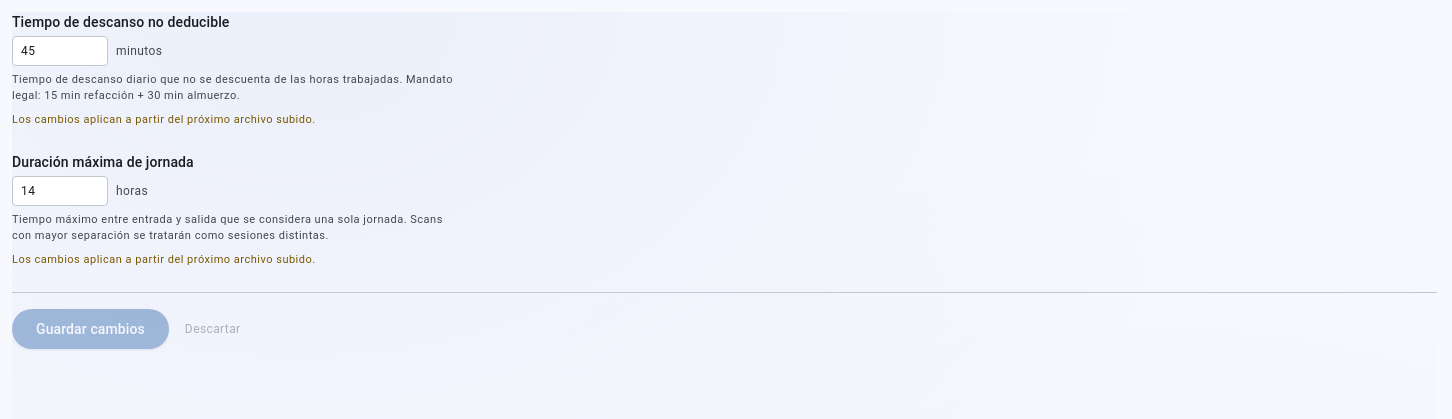
Scenario: GeneralTab save › shows error when save fails
This screenshot has width=1452, height=419.
Replace the text in the number field named "tiempo de descanso" with "60": (60, 51) [12,36,108,66]
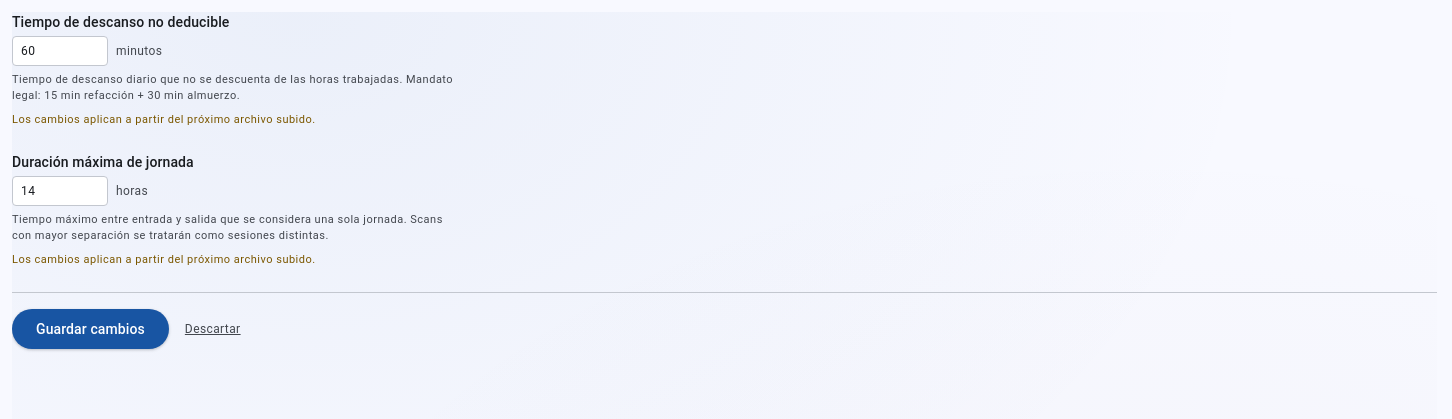
Click the button "Guardar cambios": (90, 329) [12,309,169,349]
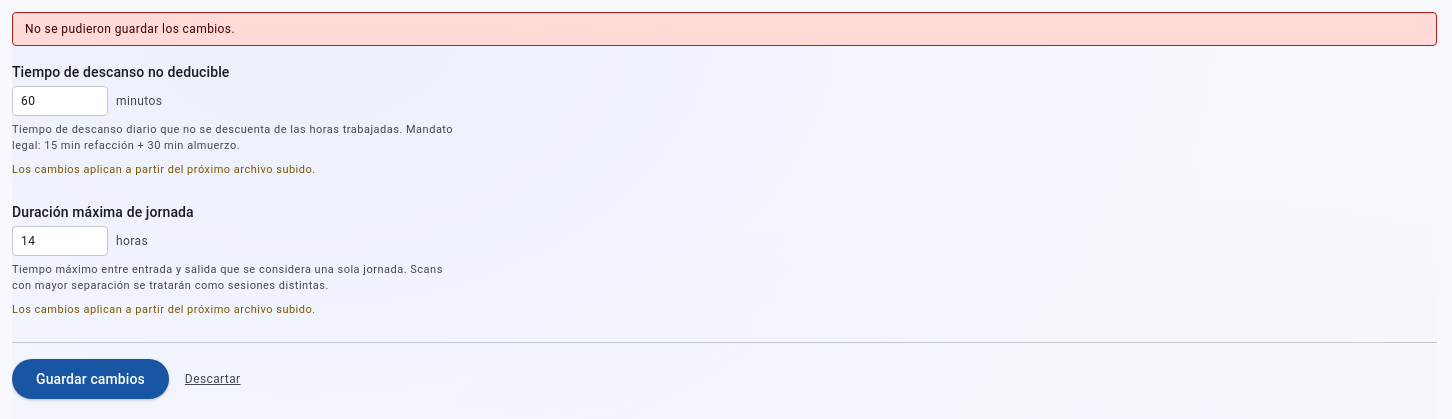
Expected: the text "No se pudieron guardar los cambios." is shown, [12,12,1437,46]
